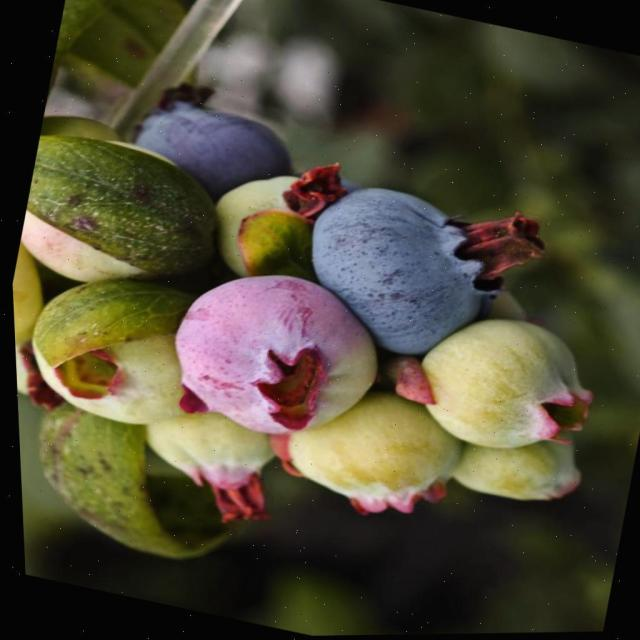Semi-RipeBlueBerry: (150, 254, 394, 455)
